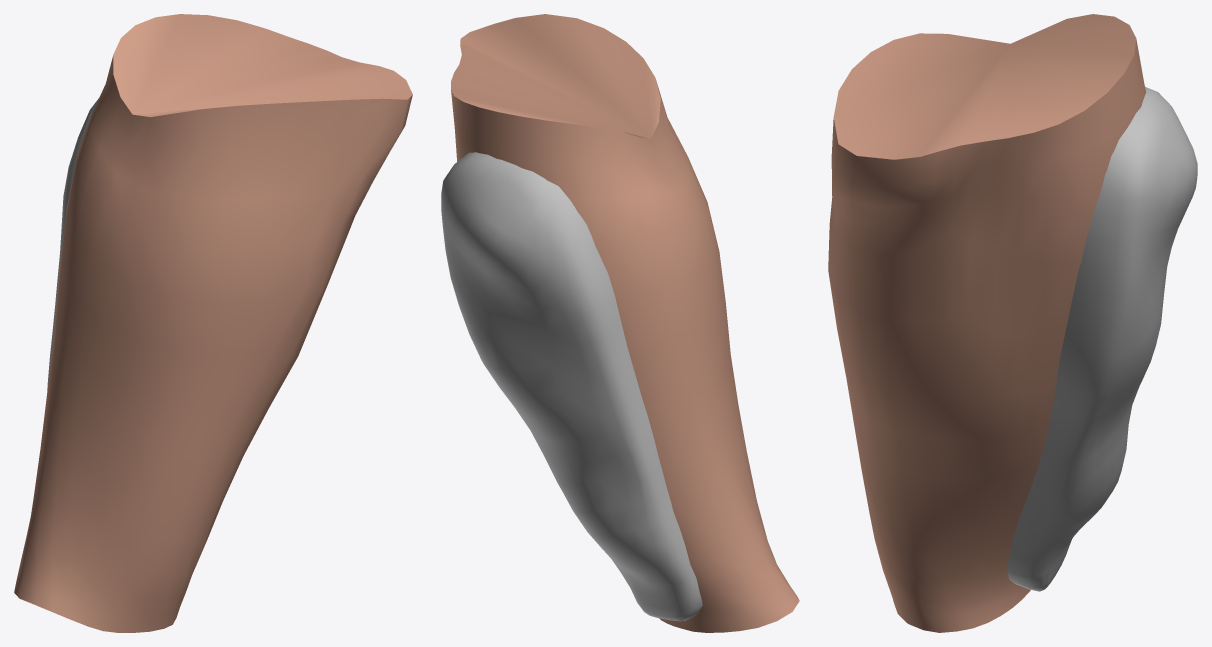
The model's file is Male_arm.fbx.
3 views of the same model, side by side, from view 1: azimuth 30°, elevation 25°; view 2: azimuth 150°, elevation 25°; view 3: azimuth 270°, elevation 25° (orthographic). The views are drawn at different scales.
Visible parts, largest first — view 1: Male_arm_col, Arm_wax_500; view 2: Male_arm_col, Arm_wax_500; view 3: Male_arm_col, Arm_wax_500.
Part boxes in pixels (left/top/right/bottom): Male_arm_col: left=14, top=14, right=412, bottom=632; Arm_wax_500: left=47, top=98, right=98, bottom=389; Male_arm_col: left=451, top=14, right=799, bottom=632; Arm_wax_500: left=441, top=152, right=702, bottom=621; Male_arm_col: left=828, top=14, right=1145, bottom=632; Arm_wax_500: left=1007, top=87, right=1197, bottom=591.
Size of the model in its own units: 0.3889 by 0.5496 by 0.2914.
